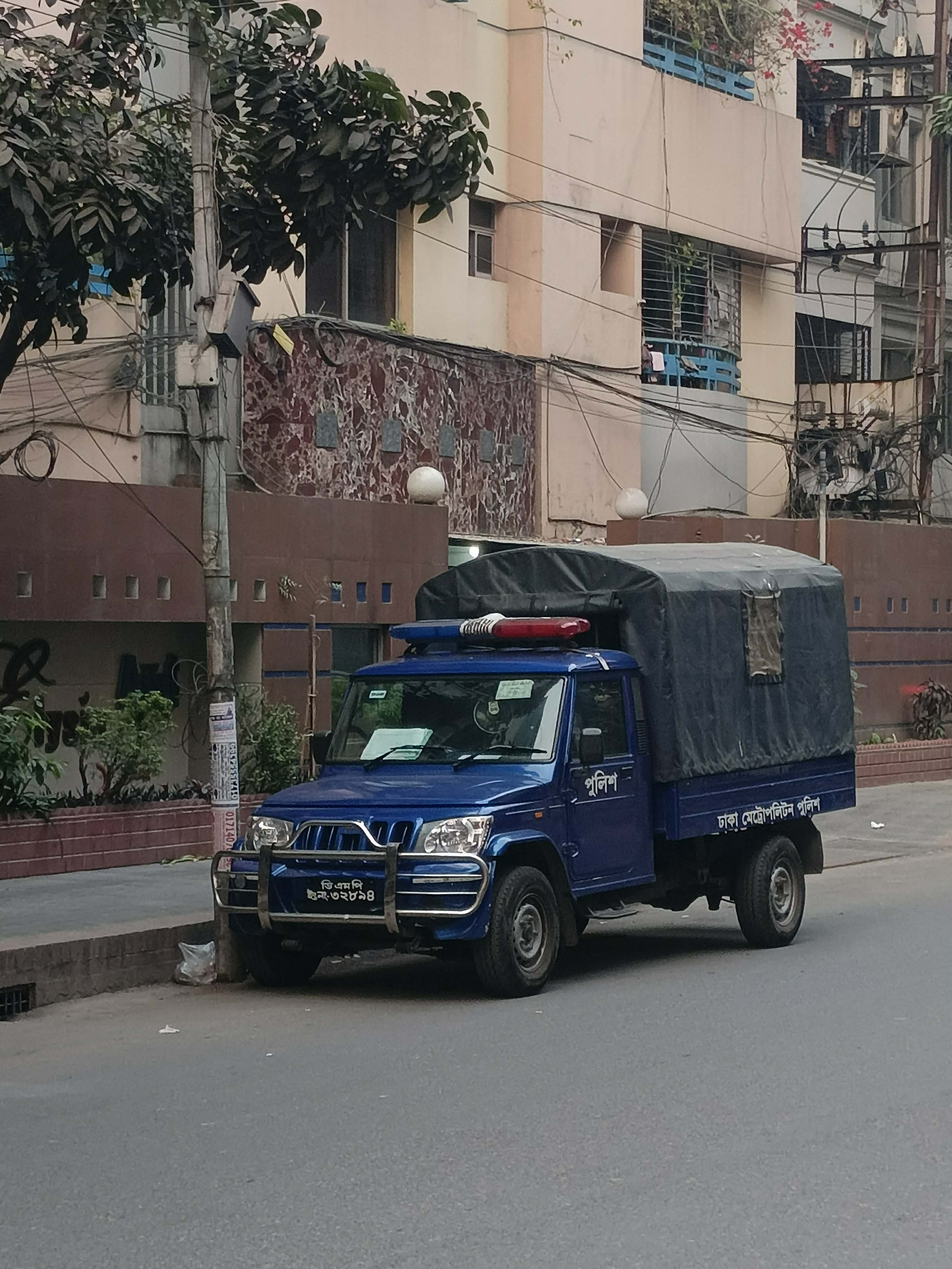Police cars: (247, 466, 952, 1075)
